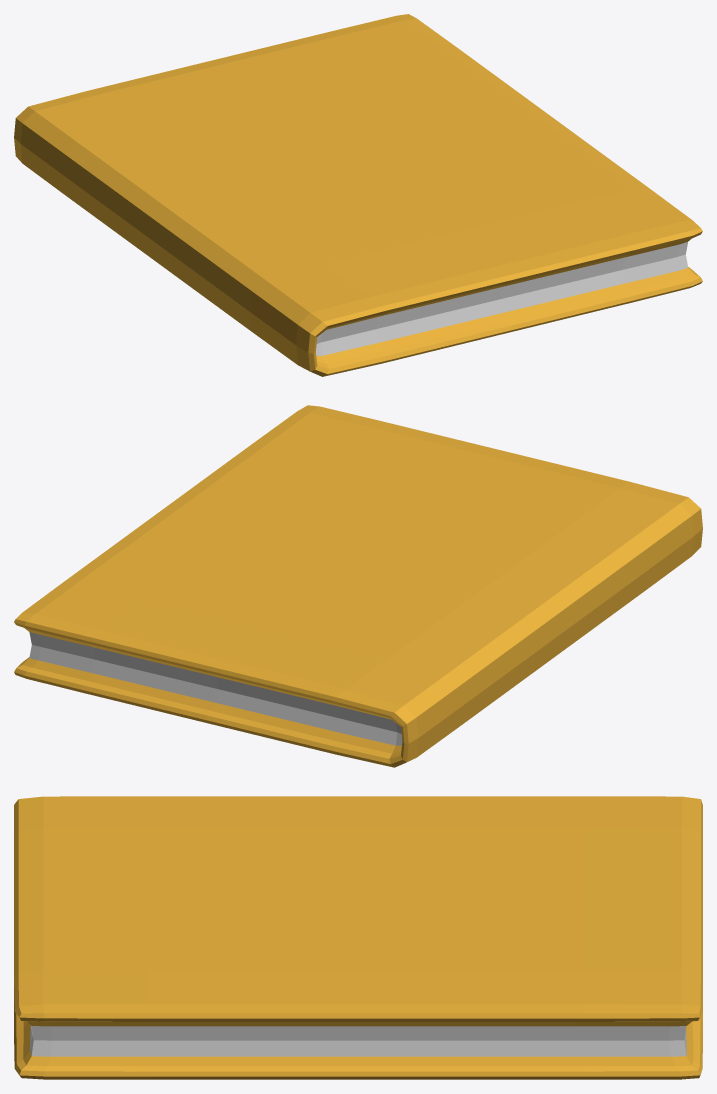
The model's file is book.fbx.
3 renders of one model, top to bottom at view 1: azimuth 30°, elevation 25°; view 2: azimuth 150°, elevation 25°; view 3: azimuth 270°, elevation 25°, orthographic. The views are drawn at different scales.
Parts seen in each view (by area): view 1: 立方体; view 2: 立方体; view 3: 立方体.
Part boxes in pixels (<box>): 立方体: <box>14,14,702,376</box>; 立方体: <box>14,405,702,767</box>; 立方体: <box>14,796,702,1079</box>.
Bounding box in the file's own units: 155 × 22.62 × 199.
